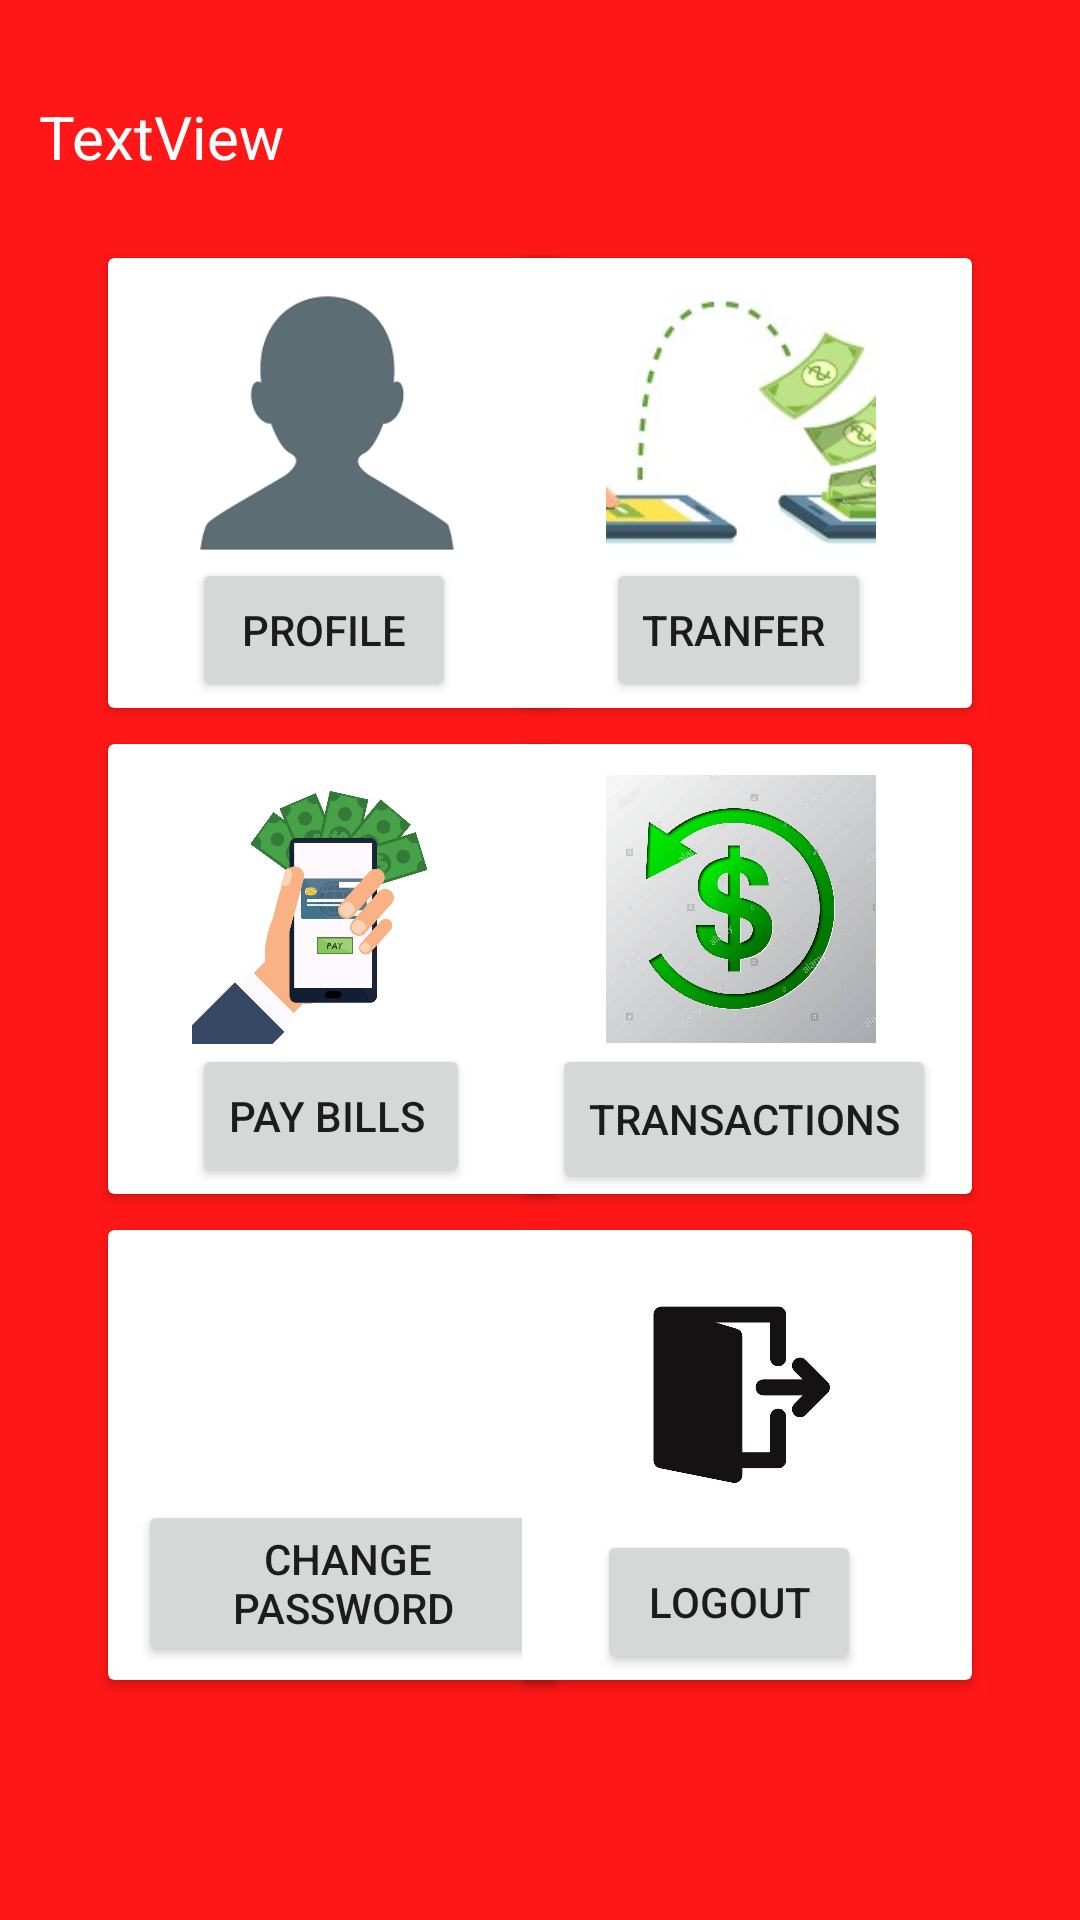

Icons on this 1080px x 1920px Android screen, each with its box as {"x1": x1, "y1": y1, "x2": x2, "y2": y2}:
user: {"x1": 200, "y1": 296, "x2": 454, "y2": 550}
